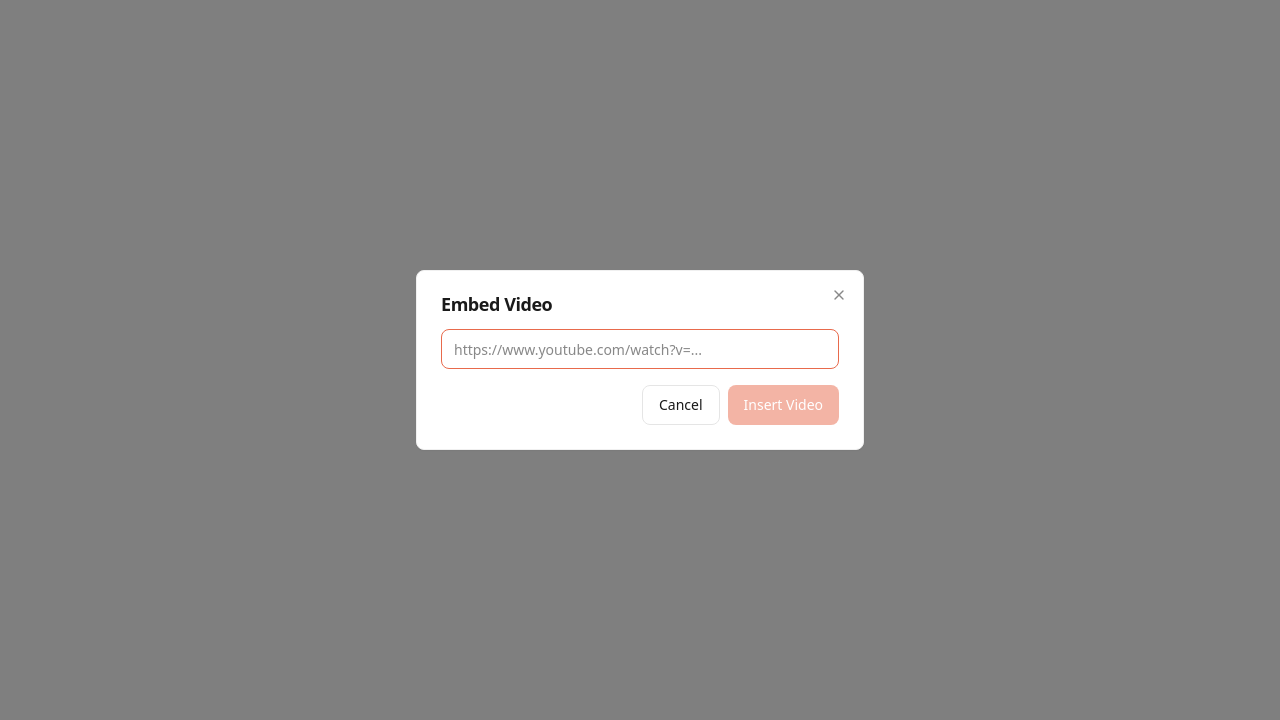
Test case: Video Dialog Integration › enables insert button for valid YouTube URL
The image size is (1280, 720).
Type "https://www.youtube.com/watch?v=dQw4w9WgXcQ" into the field with placeholder "https://www.youtube.com/watch?v=..." at coordinates (640, 349), box [441, 329, 839, 369]
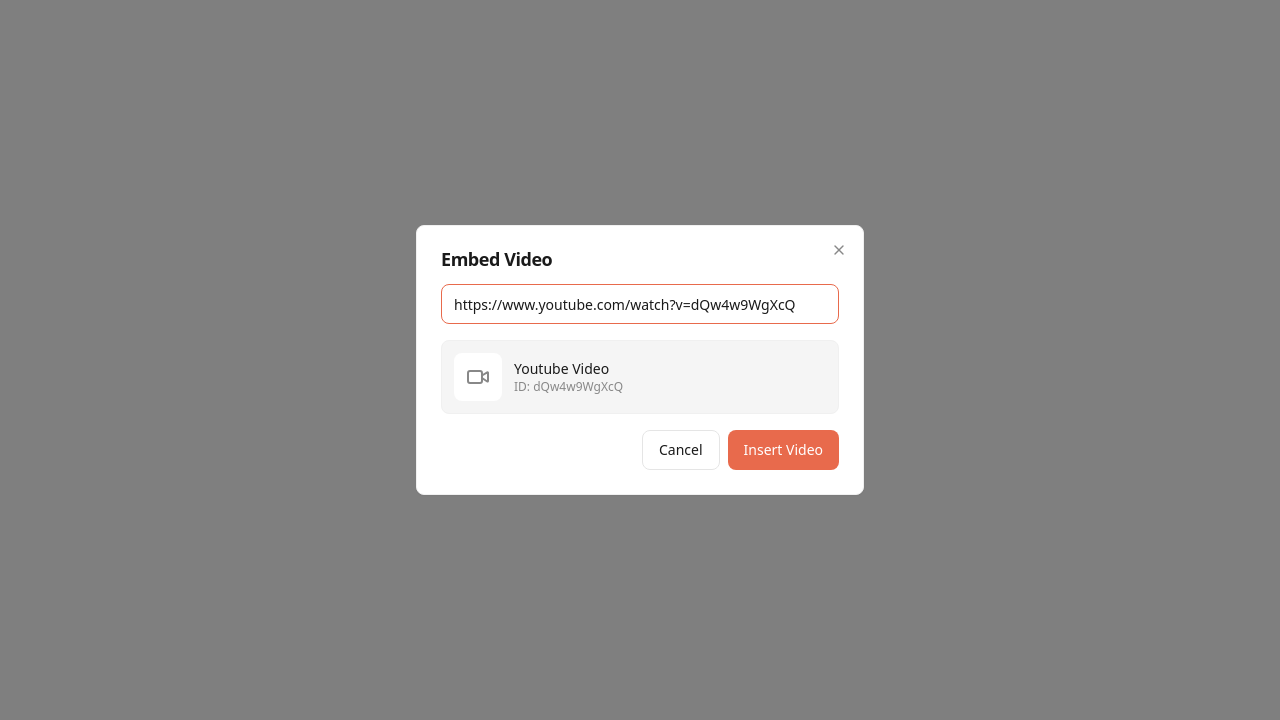
expect the text "youtube Video" is shown: met, box [514, 359, 609, 378]
expect the button "Insert Video" is enabled: met, box [728, 430, 839, 470]
